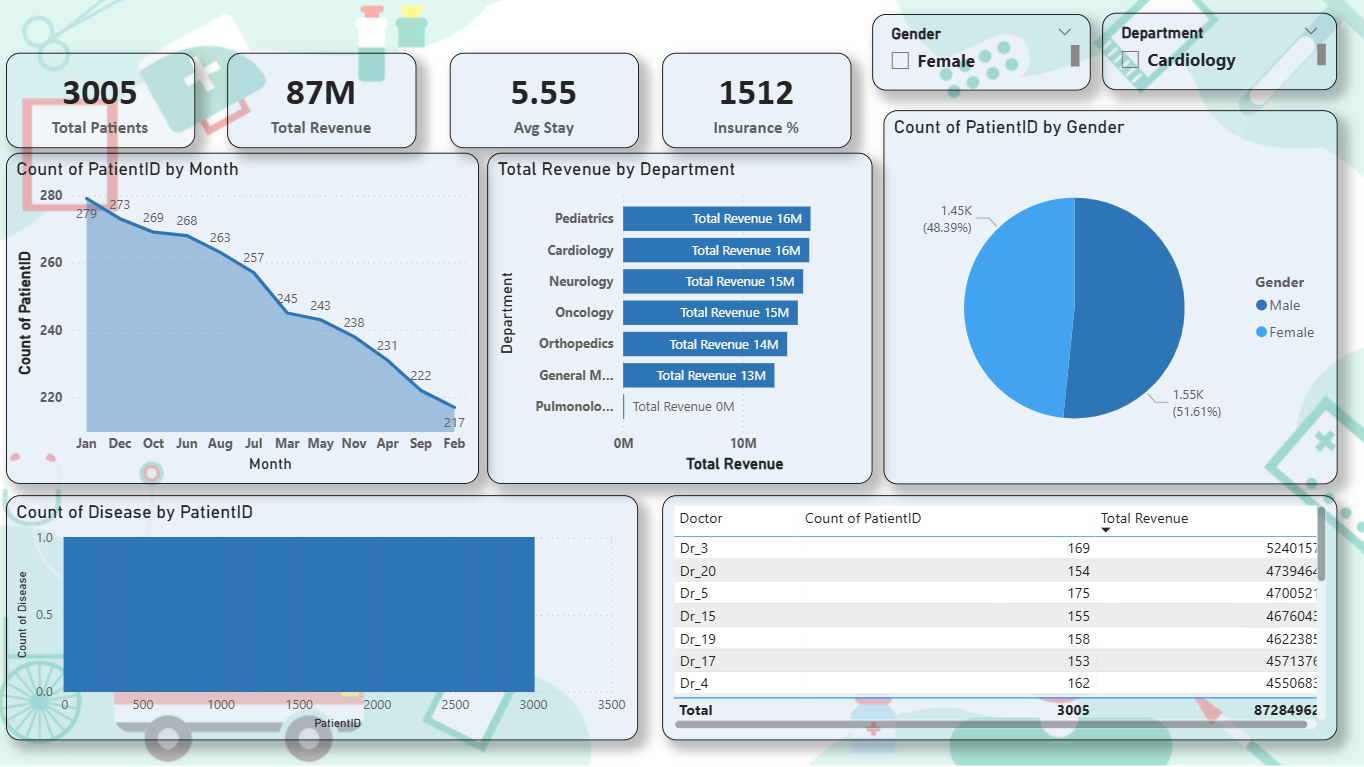

The page's visual inventory and layout, read from the dashboard file:
{"tool":"powerbi","page":{"name":"Page 1","canvas":[1280,720],"ordinal":0},"visuals":[{"type":"card","fields":{"Values":["hospital_db hospital.Total Patients"]},"box":[14.3,54.3,175.7,88.6],"z":0},{"type":"lineChart","fields":{"Category":["hospital_db hospital.Month"],"Y":["CountNonNull(hospital_db hospital.PatientID)"]},"box":[14,148,440,308],"z":1000},{"type":"card","fields":{"Values":["hospital_db hospital.Total Revenue"]},"box":[220,54.3,175.7,88.6],"z":2000},{"type":"card","fields":{"Values":["hospital_db hospital.Avg Stay"]},"box":[427.1,54.3,175.7,88.6],"z":3000},{"type":"card","fields":{"Values":["hospital_db hospital.Insurance %"]},"box":[624.3,54.3,175.7,88.6],"z":4000},{"type":"clusteredBarChart","fields":{"Category":["hospital_db hospital.Department"],"Y":["hospital_db hospital.Total Revenue"]},"box":[462,148,358,308],"z":5000},{"type":"pieChart","fields":{"Category":["hospital_db hospital.Gender"],"Y":["CountNonNull(hospital_db hospital.PatientID)"]},"box":[830,108,422,348],"z":6000},{"type":"clusteredColumnChart","fields":{"Y":["CountNonNull(hospital_db hospital.Disease)"],"Category":["hospital_db hospital.PatientID"]},"box":[14,466,588,228],"z":7000},{"type":"tableEx","fields":{"Values":["hospital_db hospital.Doctor","CountNonNull(hospital_db hospital.PatientID)","hospital_db hospital.Total Revenue"]},"box":[624,466,628,228],"z":8000},{"type":"slicer","fields":{"Values":["hospital_db hospital.Department"]},"box":[1034,18,218,72],"z":9000},{"type":"slicer","fields":{"Values":["hospital_db hospital.Gender"]},"box":[820,18.6,202.9,71.4],"z":10000}]}

Visuals, with their boxes in screenshot pixels (x1, y1, x2, y2), scaled from the page's 1280x720 canvas onto the 1364x767 screenshot:
card - hospital_db hospital.Total Patients: crop(15, 58, 202, 152)
lineChart - hospital_db hospital.Month x CountNonNull(hospital_db hospital.PatientID): crop(15, 158, 484, 486)
card - hospital_db hospital.Total Revenue: crop(234, 58, 422, 152)
card - hospital_db hospital.Avg Stay: crop(455, 58, 642, 152)
card - hospital_db hospital.Insurance %: crop(665, 58, 852, 152)
clusteredBarChart - hospital_db hospital.Department x hospital_db hospital.Total Revenue: crop(492, 158, 874, 486)
pieChart - hospital_db hospital.Gender x CountNonNull(hospital_db hospital.PatientID): crop(884, 115, 1334, 486)
clusteredColumnChart - CountNonNull(hospital_db hospital.Disease) x hospital_db hospital.PatientID: crop(15, 496, 642, 739)
tableEx - hospital_db hospital.Doctor x CountNonNull(hospital_db hospital.PatientID): crop(665, 496, 1334, 739)
slicer - hospital_db hospital.Department: crop(1102, 19, 1334, 96)
slicer - hospital_db hospital.Gender: crop(874, 20, 1090, 96)
